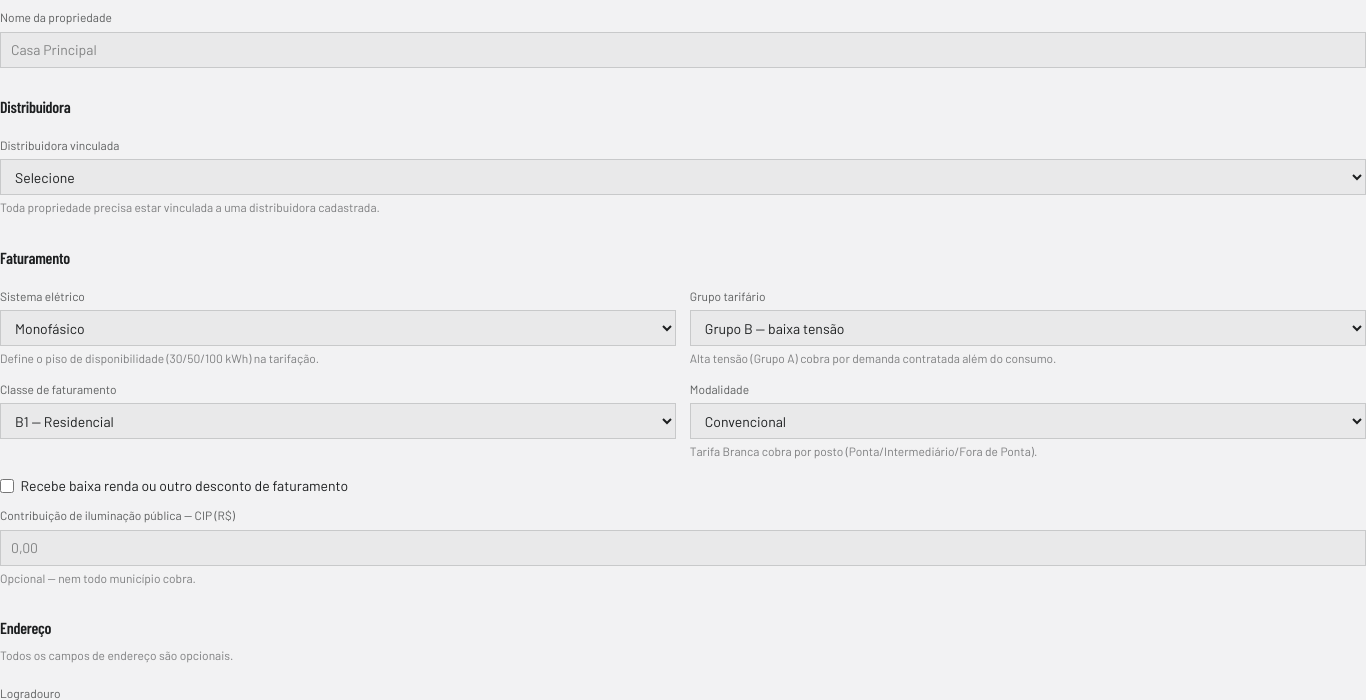
Test case: PropertyForm — Mercado Livre (ACL) › só mostra o ambiente de contratação e o contrato ACL no Grupo A
This screenshot has width=1366, height=700.
expect the field labelled "ambiente de contratação" is not shown: met
Select "Grupo A — alta tensão" in the dropdown labelled "Grupo tarifário": (1028, 328) [690,310,1365,346]
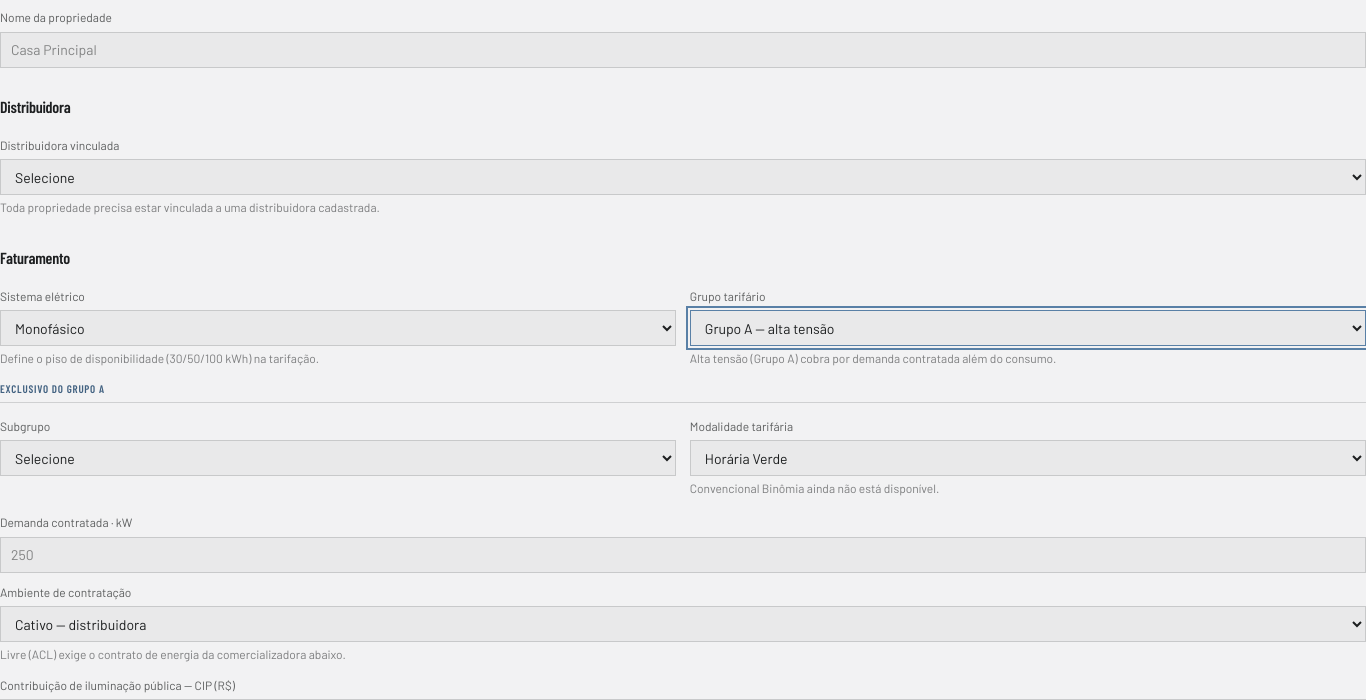
expect the dropdown labelled "Ambiente de contratação" is shown: met
Select "Livre — mercado livre (ACL)" in the dropdown labelled "Ambiente de contratação": (683, 624) [0,606,1365,642]
(page scrolled)
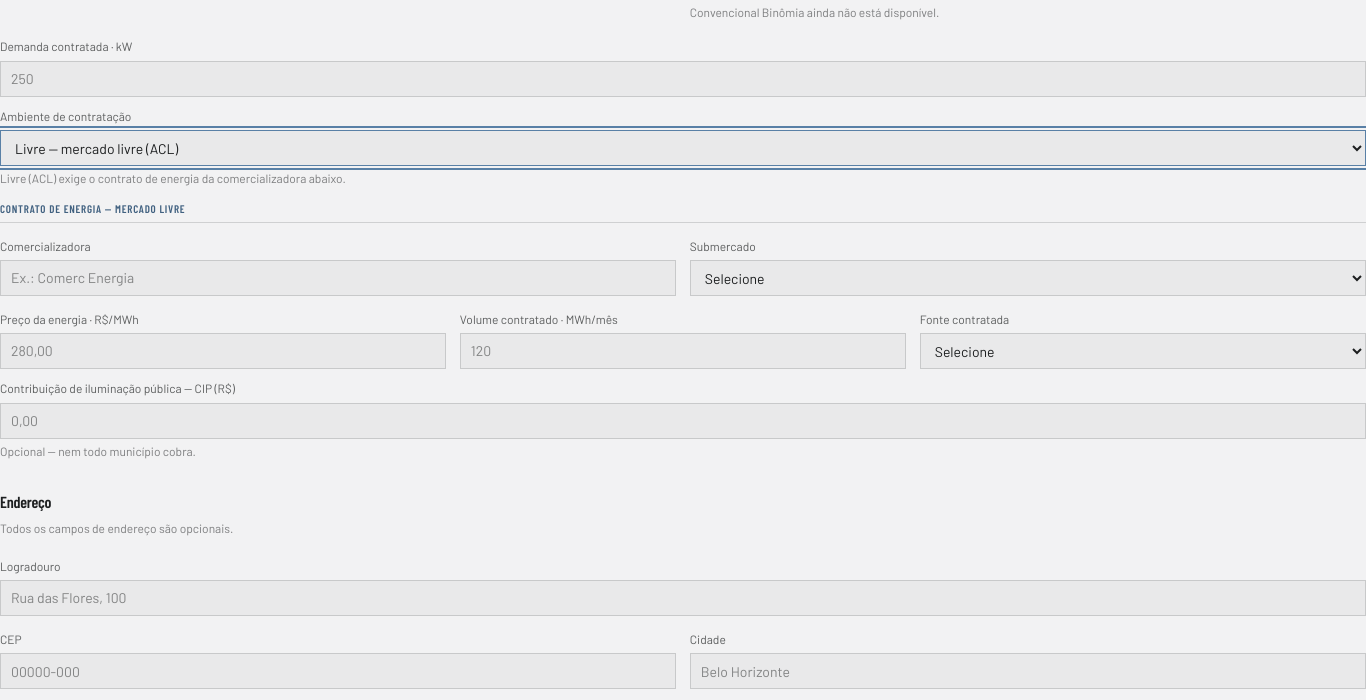
expect the field labelled "Comercializadora" is shown: met, box [0,260,676,296]
expect the dropdown labelled "Submercado" is shown: met, box [690,260,1365,296]
expect the number field labelled "Preço da energia · R$/MWh" is shown: met, box [0,333,446,369]
